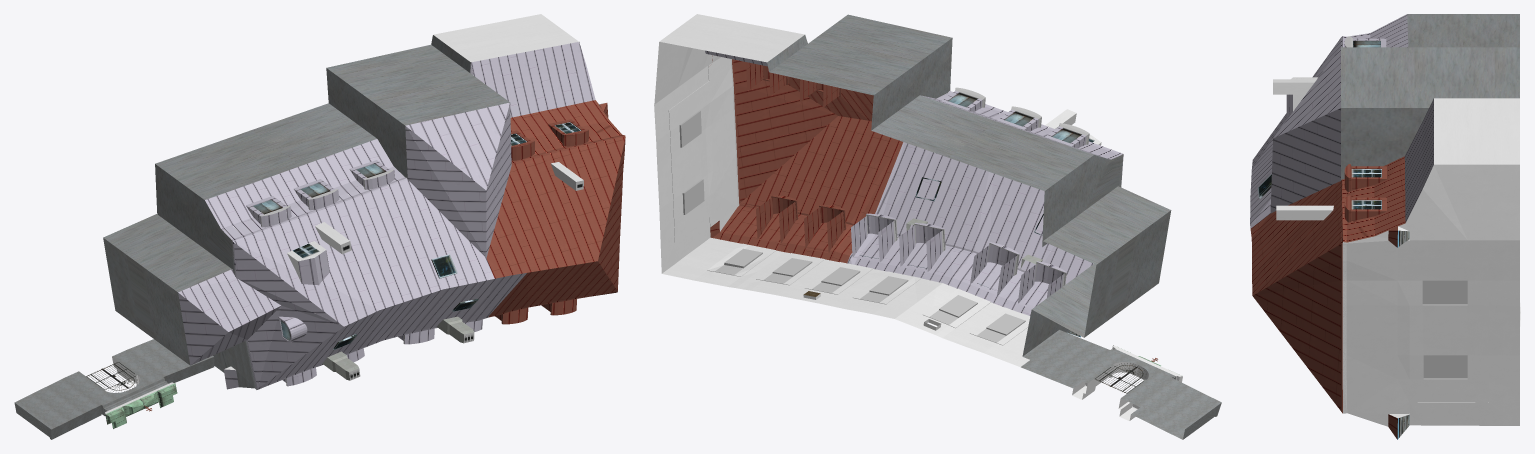
File: Suur-Kloostri_14_1.obj
3 renders of one model, left to right at view 1: azimuth 30°, elevation 25°; view 2: azimuth 150°, elevation 25°; view 3: azimuth 270°, elevation 25°, orthographic. The views are drawn at different scales.
Parts seen in each view (by area): view 1: Suur_Kloostri_14_1; view 2: Suur_Kloostri_14_1; view 3: Suur_Kloostri_14_1.
Boxes of the visible parts, x1=… form: Suur_Kloostri_14_1: x1=14, y1=14, x2=625, y2=439; Suur_Kloostri_14_1: x1=654, y1=14, x2=1221, y2=439; Suur_Kloostri_14_1: x1=1250, y1=14, x2=1520, y2=439.
Size of the model in its own units: 35.21 by 17.35 by 13.5.
